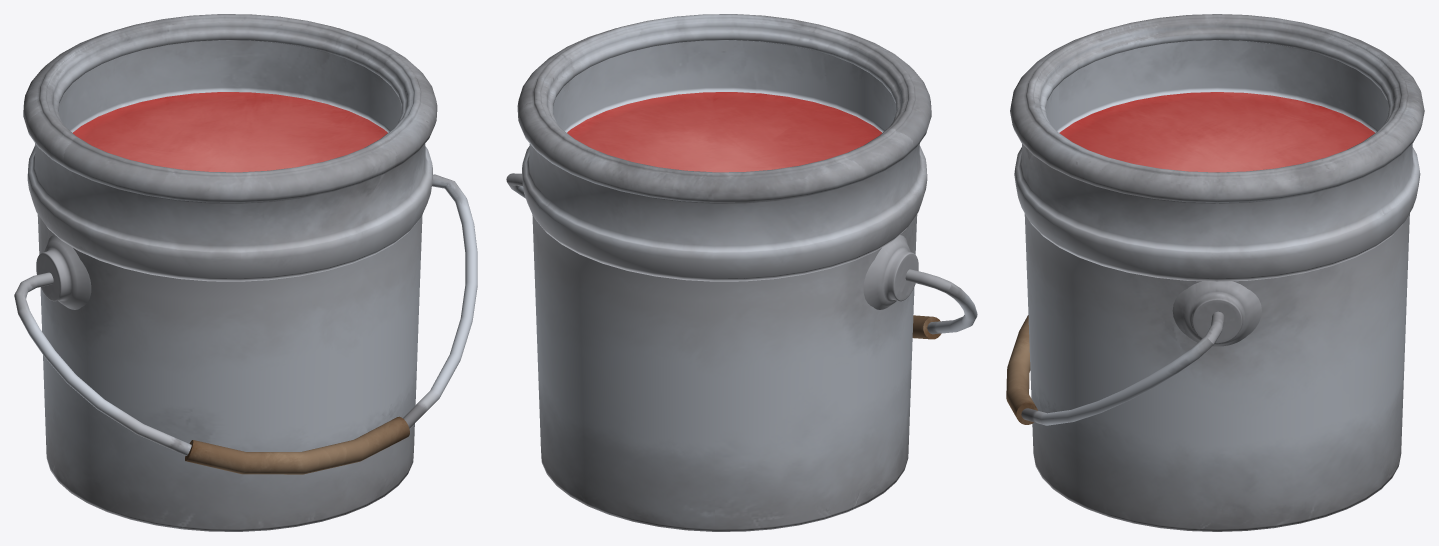
The model's file is PaintCanModel.fbx.
3 views of the same model, side by side, from view 1: azimuth 30°, elevation 25°; view 2: azimuth 150°, elevation 25°; view 3: azimuth 270°, elevation 25° (orthographic).
Visible parts, largest first — view 1: pCylinder6; view 2: pCylinder6; view 3: pCylinder6.
Part boxes in pixels (bbox=[...]): pCylinder6: bbox=[14, 14, 477, 531]; pCylinder6: bbox=[506, 14, 977, 531]; pCylinder6: bbox=[1006, 14, 1424, 531].
Size of the model in its own units: 10.68 by 8.26 by 8.6.
Materials: 3 (3 with a texture image).
